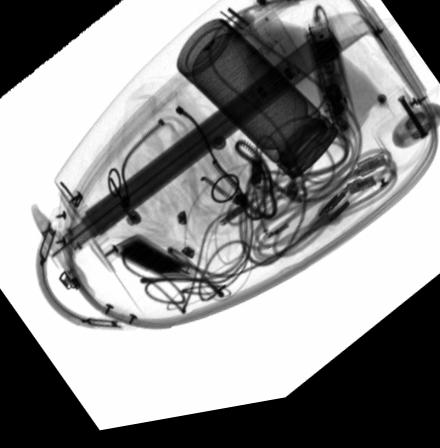Powerbank: (112, 237, 193, 290)
